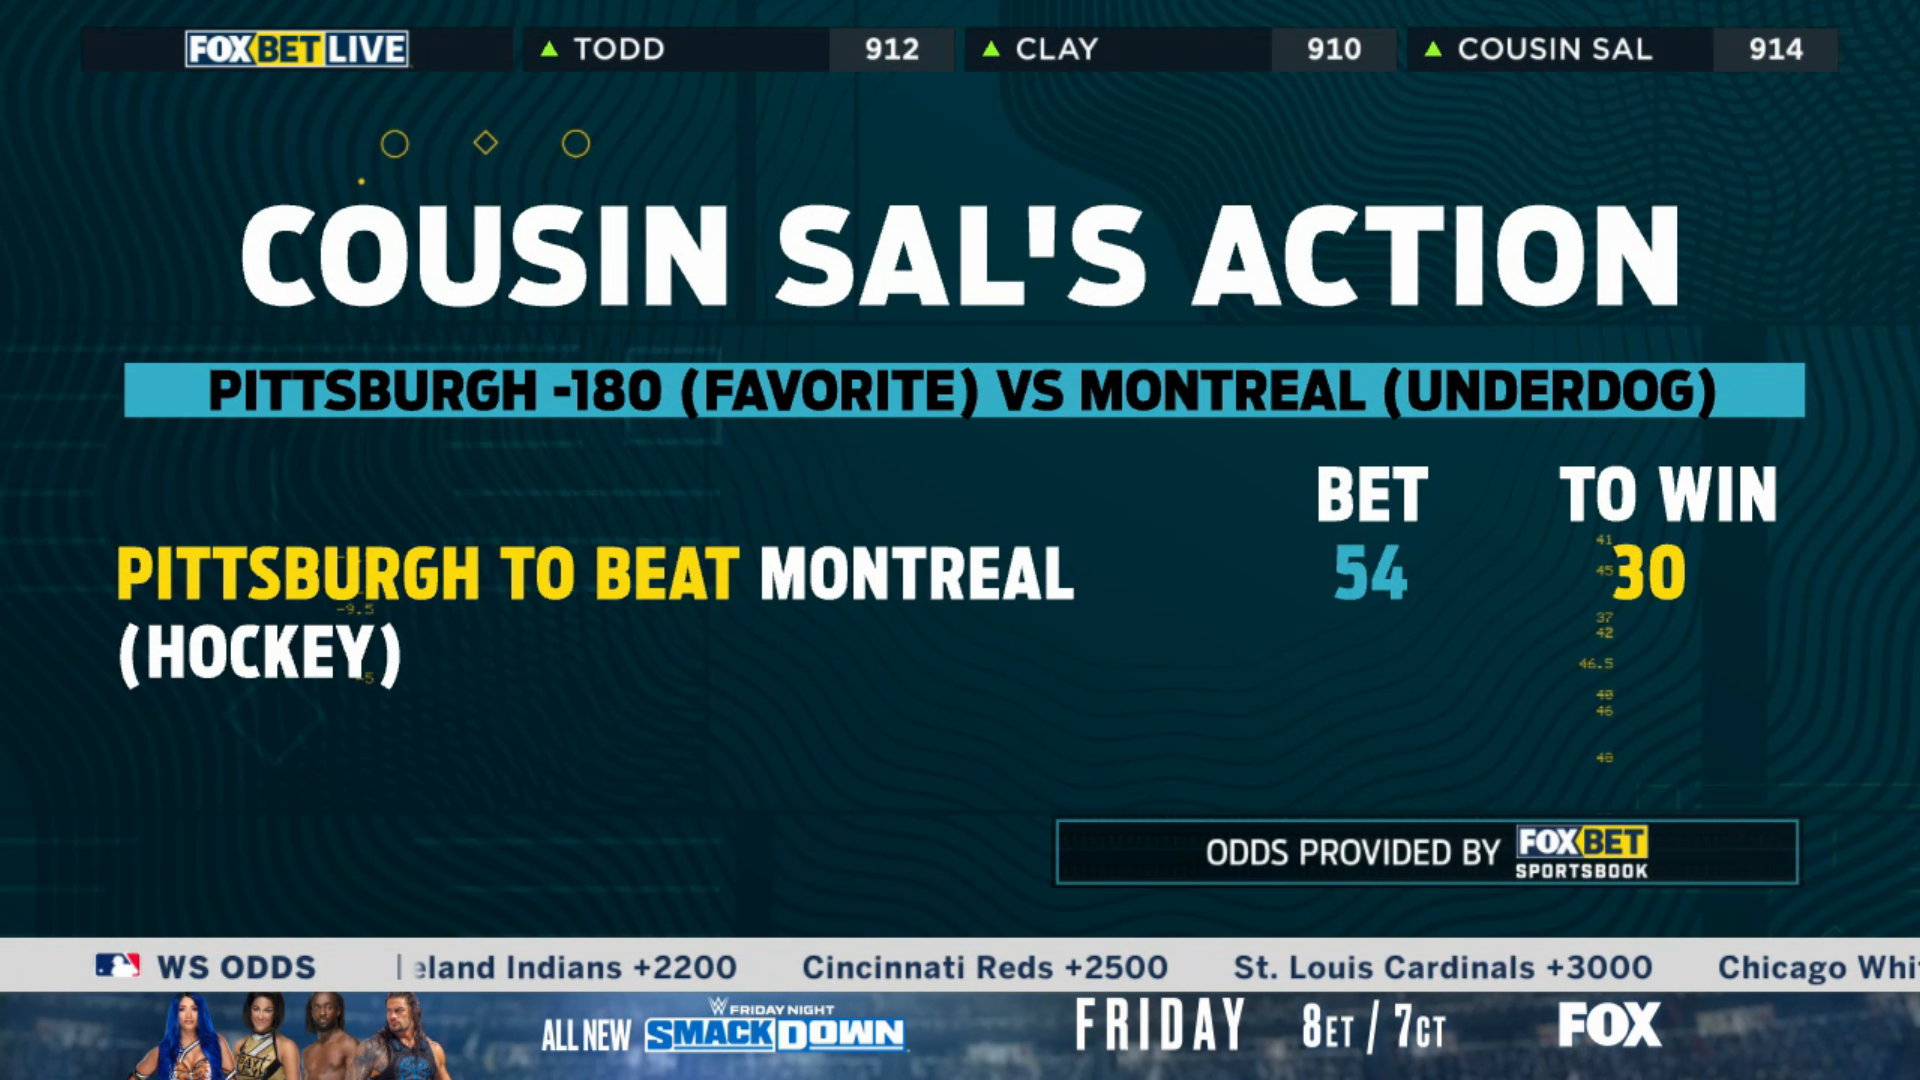Bet: (105, 535, 1083, 698)
Bet Amount: (1307, 452, 1444, 617)
Subtitle: (113, 353, 1820, 429)
Title: (227, 191, 1698, 327)
To Win: (1551, 459, 1788, 617)
Top Bar: (73, 17, 1845, 84)
